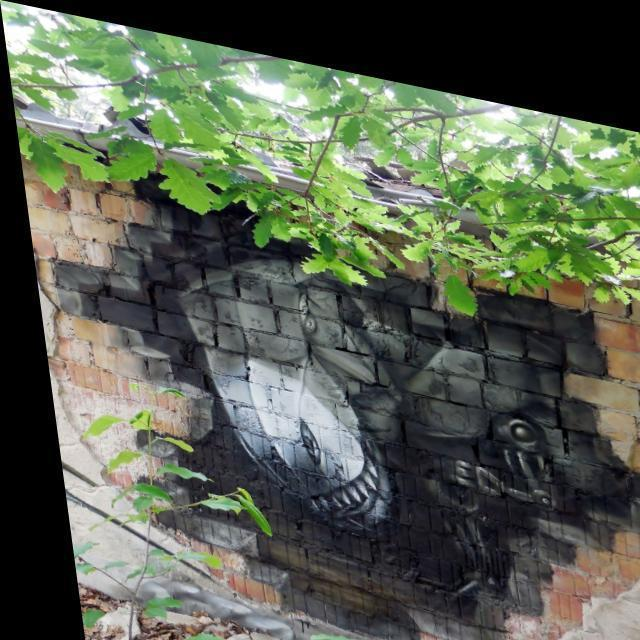nonspitting: (53, 197, 640, 639)
